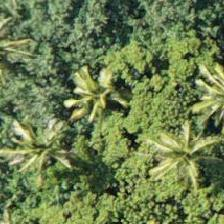coconut_tree: (53, 51, 143, 141), (138, 115, 223, 205), (0, 112, 81, 202)
